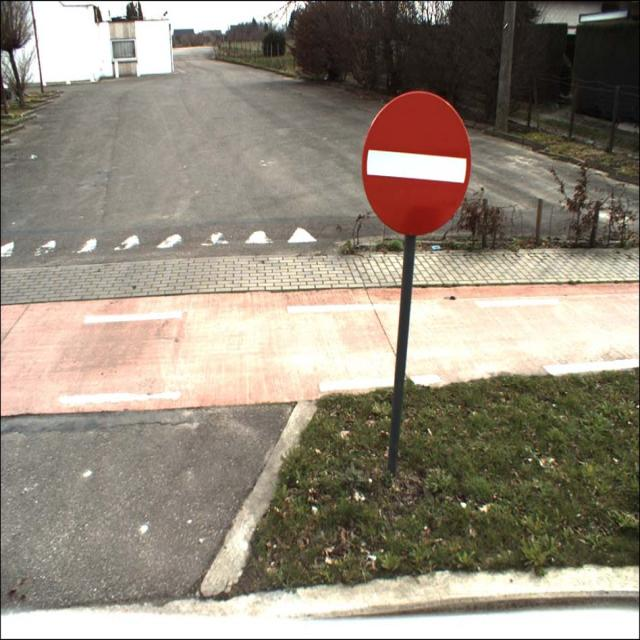girisyok: (362, 90, 471, 236)
